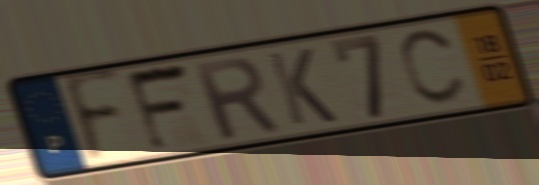7: (326, 30, 388, 123)
C: (396, 25, 470, 109)
F: (122, 59, 195, 157), (60, 65, 126, 170)
K: (263, 45, 341, 129)
R: (187, 53, 284, 144)
